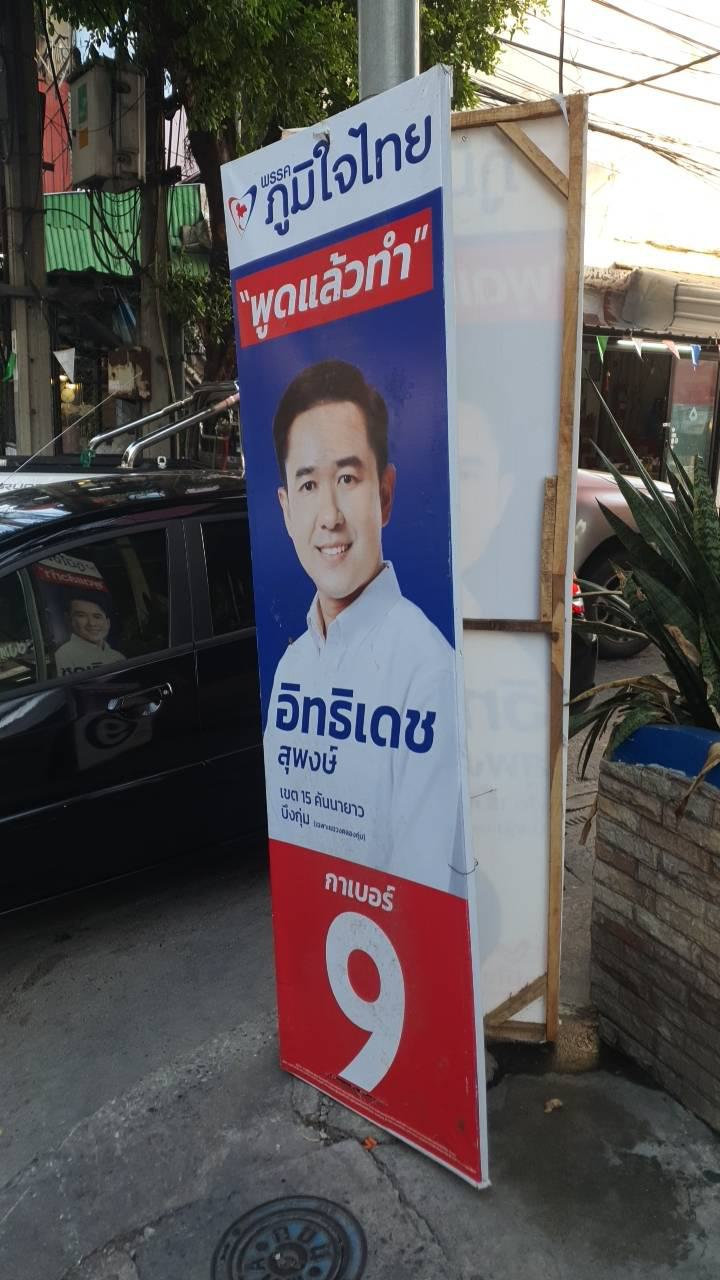Banner: (215, 60, 489, 1195)
